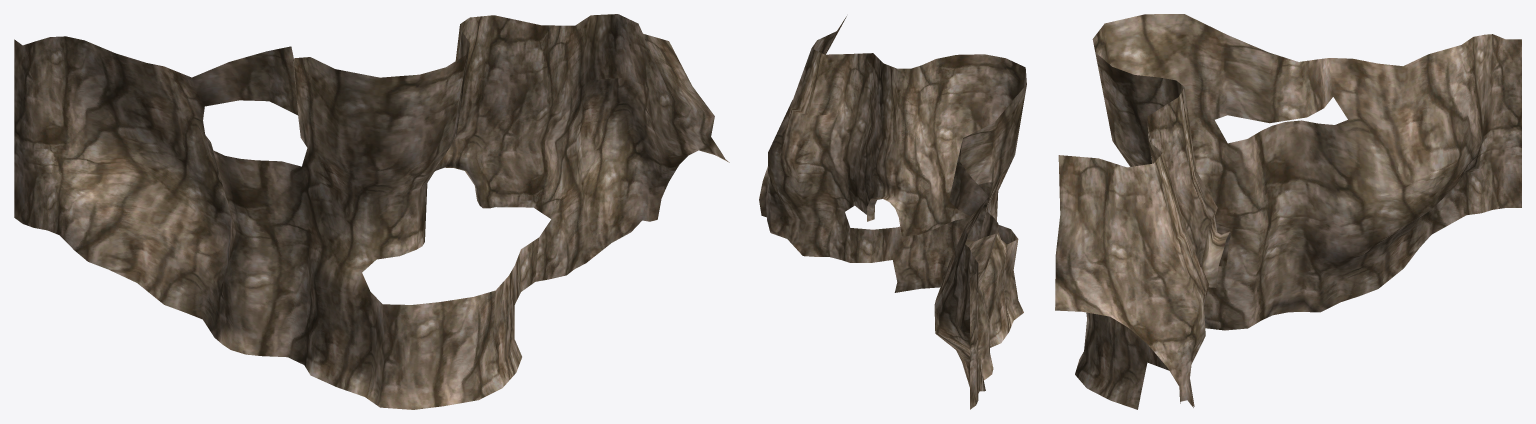
File: EKH_THRONE_PS_TH_LT_WALL_0452.fbx
3 renders of one model, left to right at view 1: azimuth 30°, elevation 25°; view 2: azimuth 150°, elevation 25°; view 3: azimuth 270°, elevation 25°, orthographic. The views are drawn at different scales.
Parts seen in each view (by area): view 1: EKH_THRONE_PS_TH_LT_WALL_0452; view 2: EKH_THRONE_PS_TH_LT_WALL_0452; view 3: EKH_THRONE_PS_TH_LT_WALL_0452.
Part boxes in pixels (x1=…): EKH_THRONE_PS_TH_LT_WALL_0452: x1=14, y1=14, x2=729, y2=409; EKH_THRONE_PS_TH_LT_WALL_0452: x1=759, y1=16, x2=1026, y2=409; EKH_THRONE_PS_TH_LT_WALL_0452: x1=1055, y1=14, x2=1521, y2=409.
Bounding box in the file's own units: 188620 × 127124 × 171875.
Materials: 1 (1 with a texture image).
